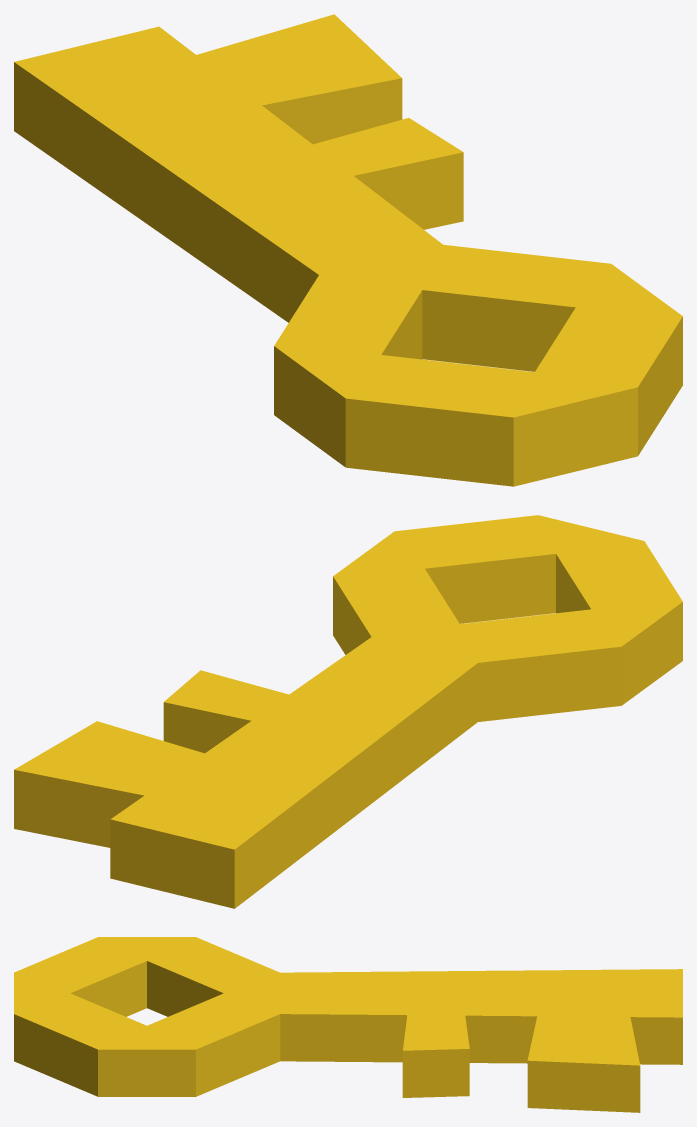
File: Key.fbx
The picture shows the model from 3 angles, top to bottom: view 1: azimuth 30°, elevation 25°; view 2: azimuth 150°, elevation 25°; view 3: azimuth 270°, elevation 25°; orthographic projection. The views are drawn at different scales.
Visible parts, largest first — view 1: Plane; view 2: Plane; view 3: Plane.
Boxes of the visible parts, <box> form: Plane: <box>14,14,682,486</box>; Plane: <box>14,515,682,908</box>; Plane: <box>14,937,682,1112</box>.
Size of the model in its own units: 70.83 by 12.15 by 156.
